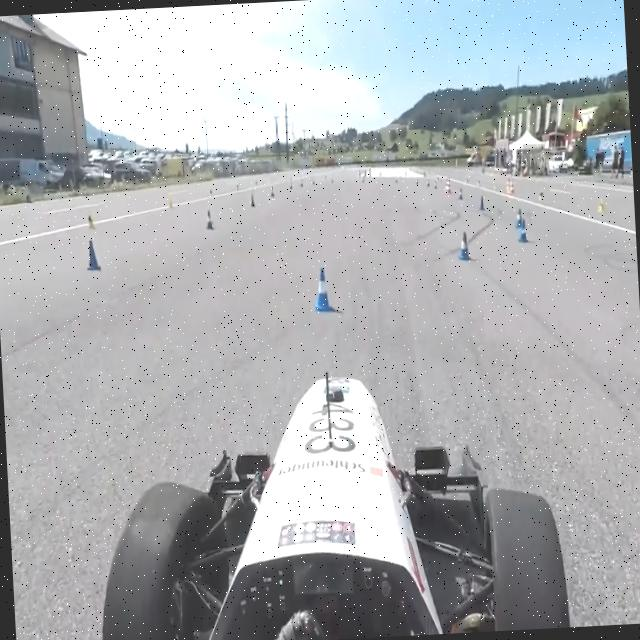blue_cone: (312, 262, 333, 314), (512, 205, 532, 248), (457, 224, 471, 262)
